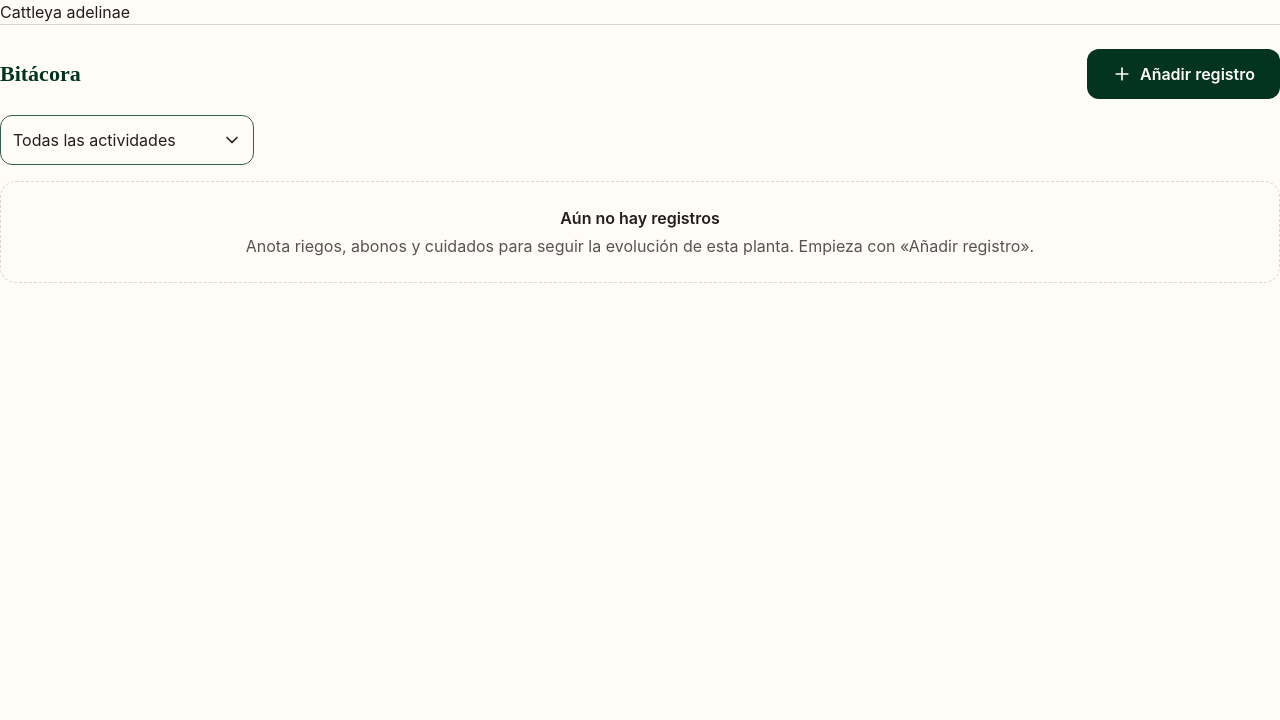
it: PlantLogSection: añadir un registro › si falla, conserva lo escrito; el reintento no duplica
The image size is (1280, 720).
Expected: the text "Aún no hay registros" is shown, [560,208,720,228]
Click the button "Añadir registro" at (1184, 74), box [1087,49,1279,99]
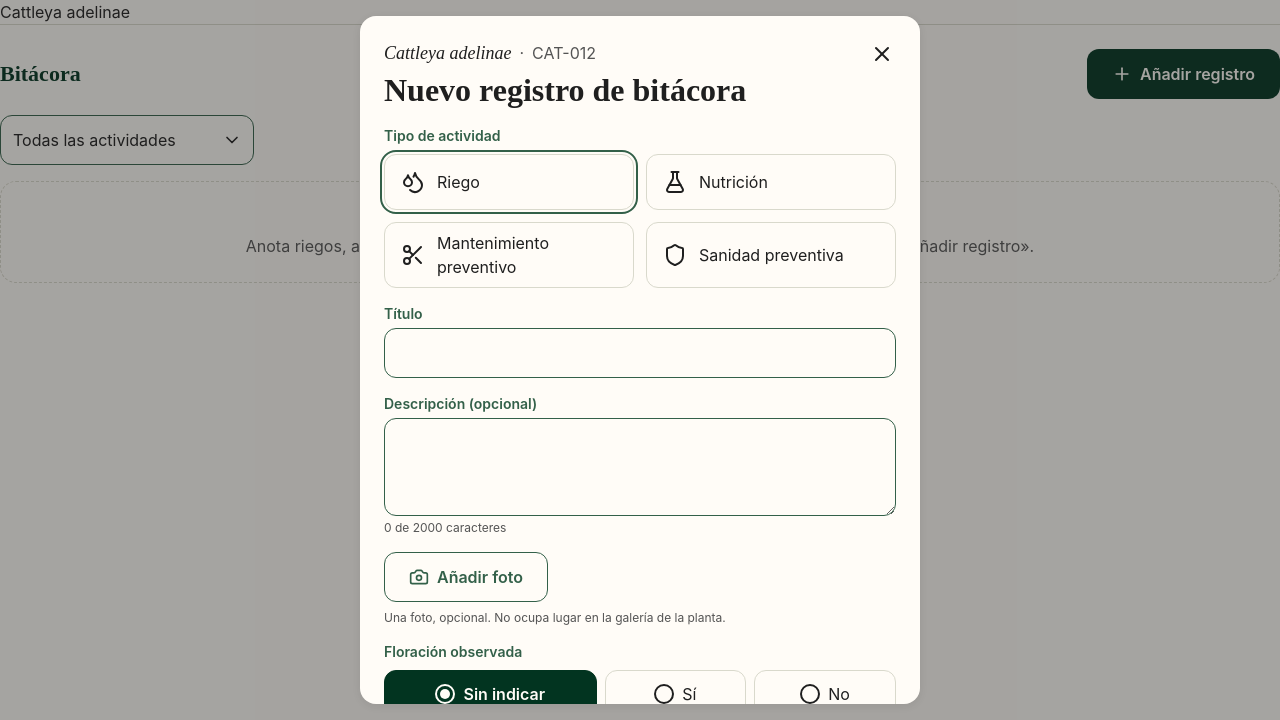
Click the radio button labelled "Riego" at (509, 182), box [384,154,634,210]
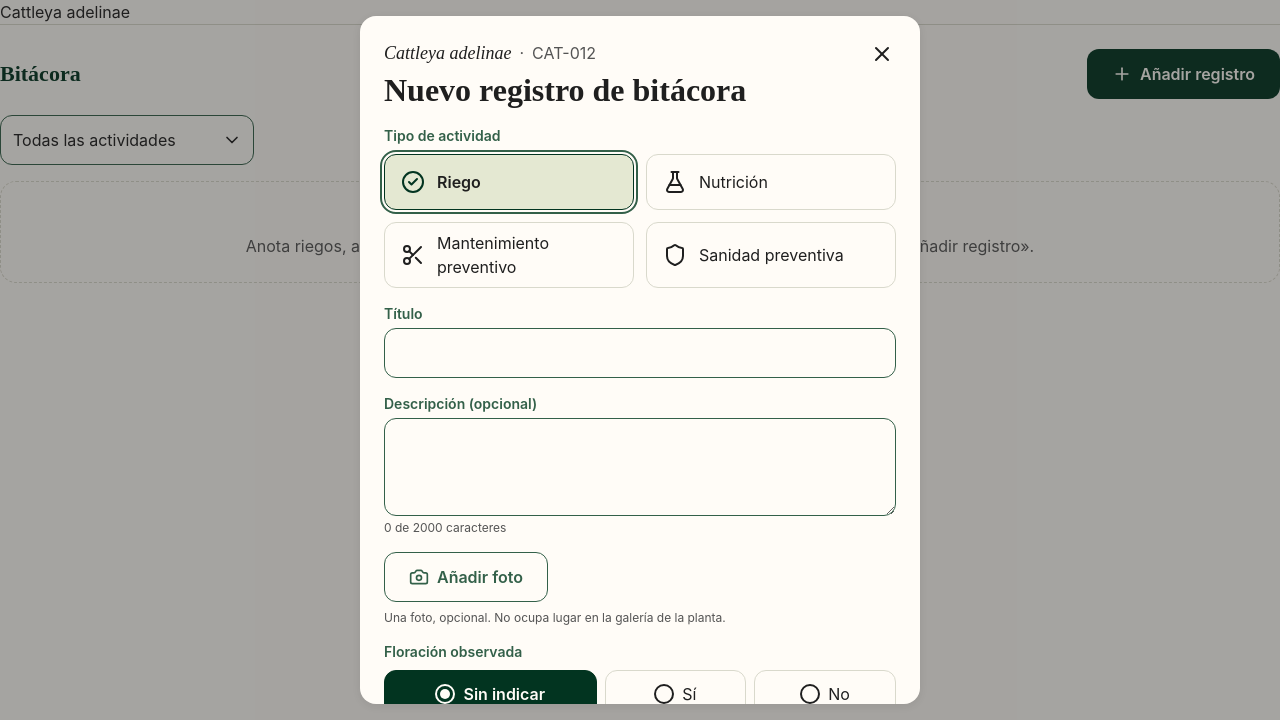
Type "Riego por inmersión" into the field labelled "Título" at (640, 353), box [384,328,896,378]
(page scrolled)
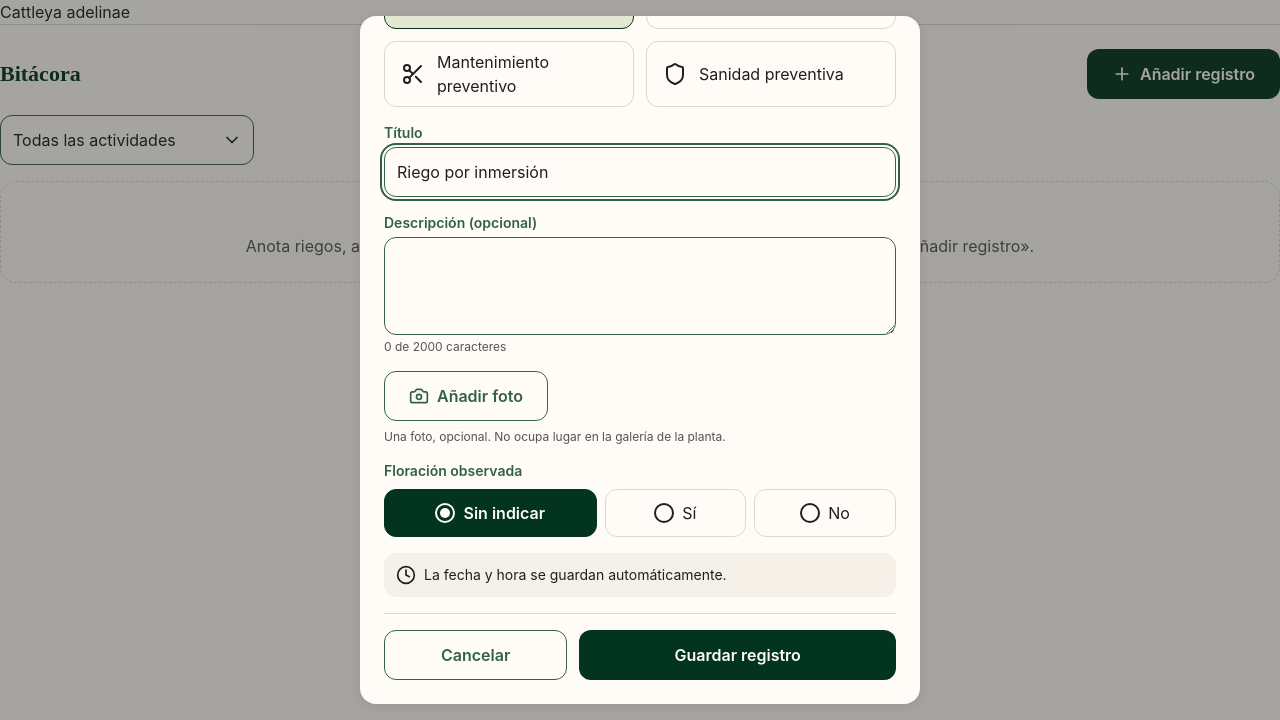
Click the button "Guardar registro" at (738, 655), box [579,630,896,680]
(page scrolled)
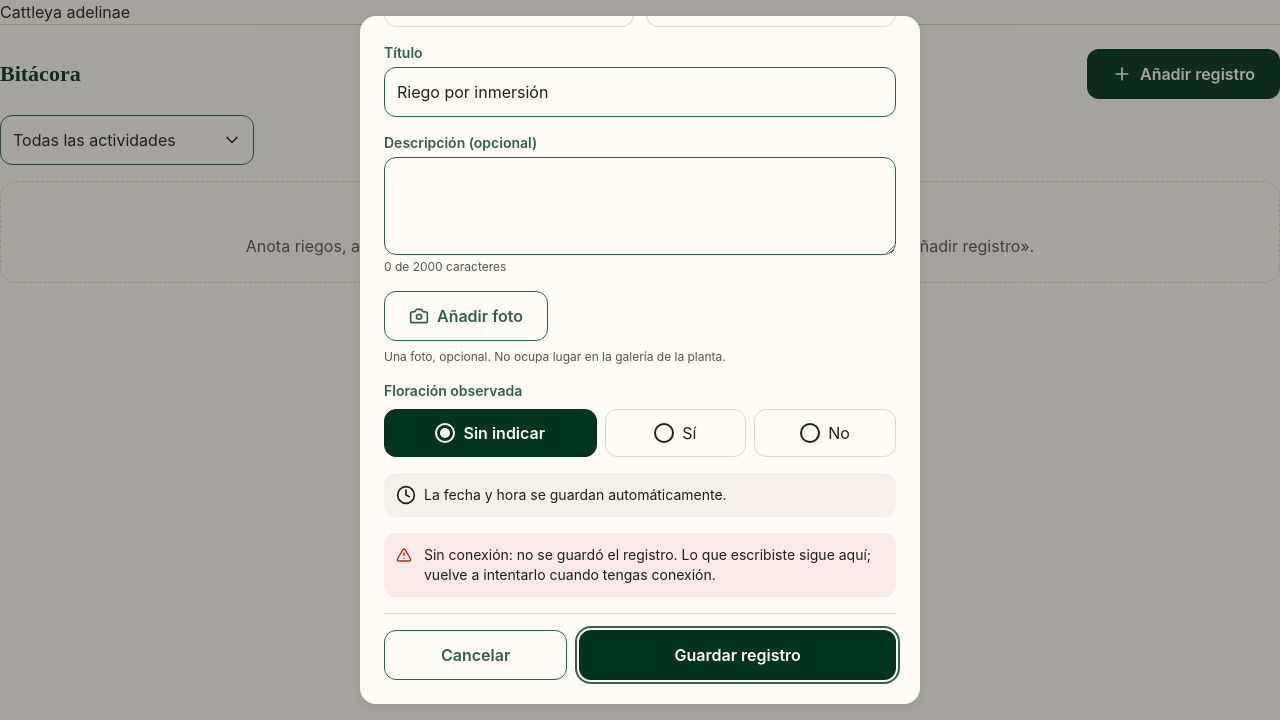
Now the message shows "Sin conexión: no se guardó el registro. Lo que escribiste sigue aquí; vuelve a intentarlo cuando tengas conexión.", box [424,546,871,583]
Click the button "Guardar registro" at (738, 655), box [579,630,896,680]
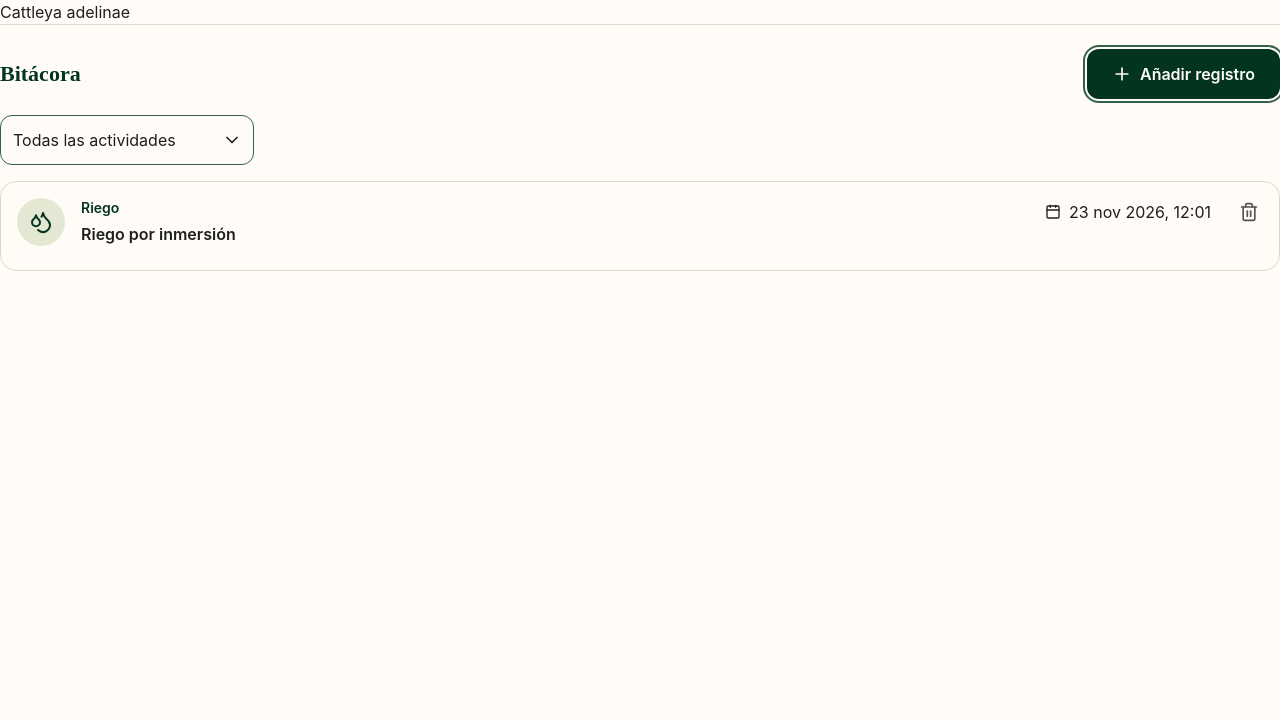
Now the dialog is gone
